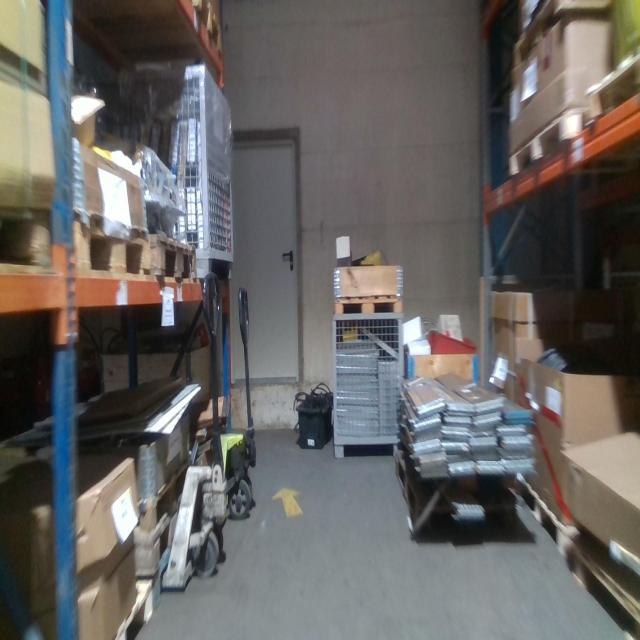pallet: (1, 207, 155, 282), (511, 467, 593, 563), (127, 489, 200, 588), (570, 537, 640, 637), (506, 106, 595, 179), (124, 448, 190, 530), (100, 576, 161, 637), (584, 51, 639, 118), (154, 227, 197, 294), (182, 1, 222, 56), (334, 293, 402, 324)
pallet_truck: (124, 268, 234, 598), (226, 288, 258, 537)
small_load_carrier: (295, 387, 333, 448)
stillage: (78, 46, 239, 289), (330, 309, 410, 468)
